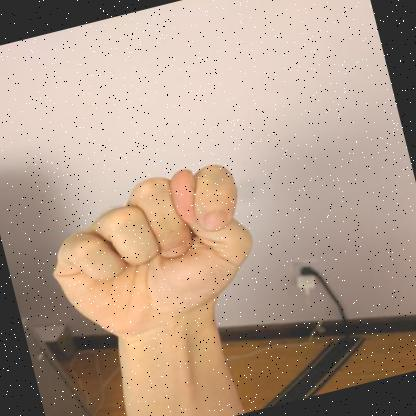T: (53, 164, 252, 344)
